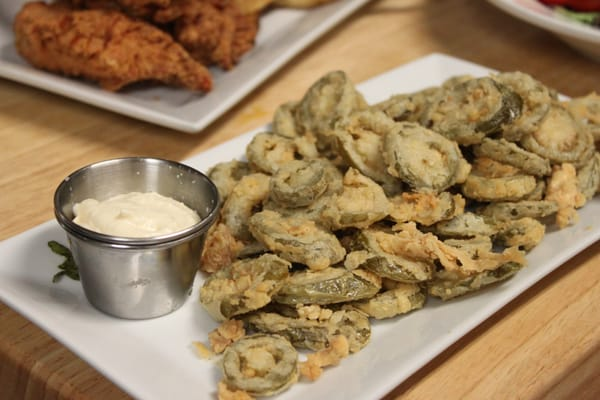sushi: (52, 155, 221, 320)
